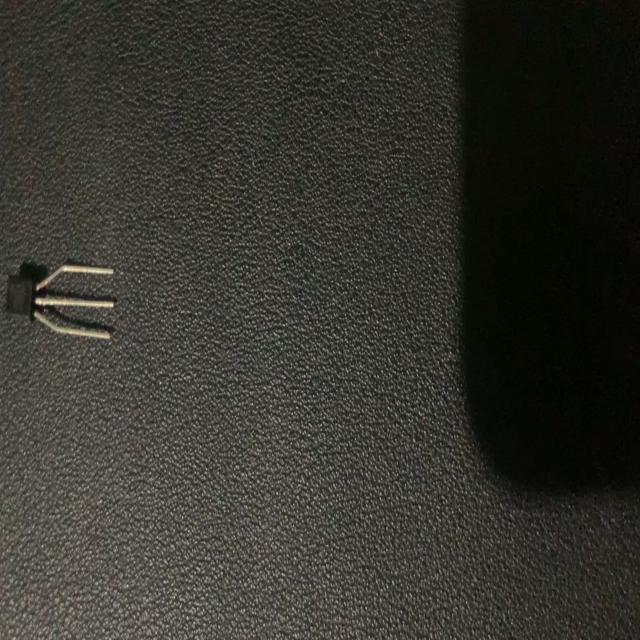BJT: (4, 262, 115, 347)
